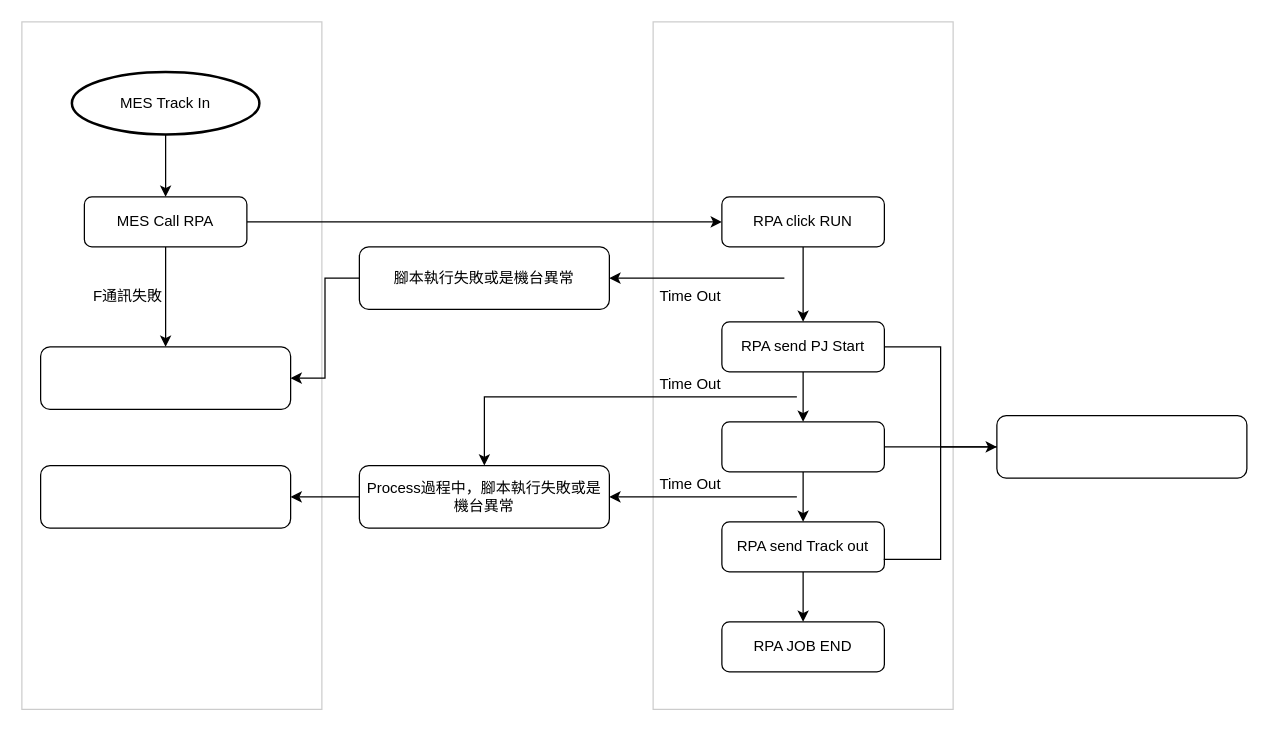
Image size: 1269x731. Some labels were removed from this diagram. Each missing label, with the centre of its shape:
"F通訊失敗RPA show message and write log" goes at (1121,446).
"MES執行Track In Cancel & alarm message on MES GUI" goes at (165,377).
"RPA send create abnormal to MES" goes at (165,496).
"RPA send PJ End" goes at (802,446).
